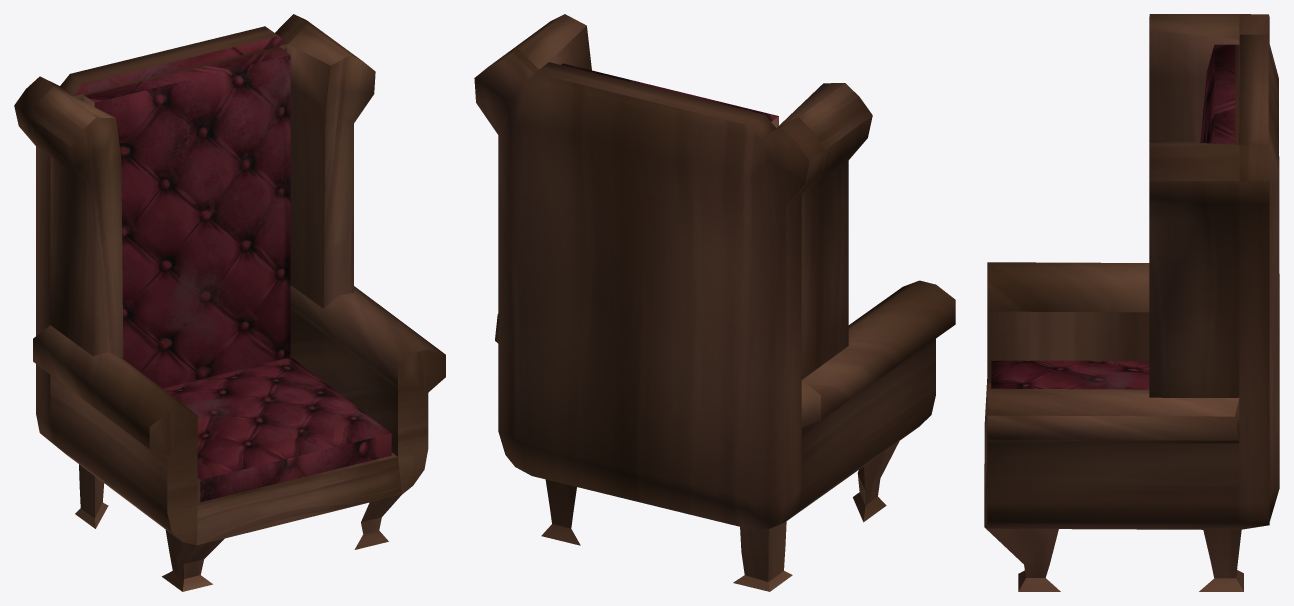
Rendered from CozyChair.fbx.
3 renders of one model, left to right at view 1: azimuth 30°, elevation 25°; view 2: azimuth 150°, elevation 25°; view 3: azimuth 270°, elevation 25°, orthographic. The views are drawn at different scales.
Parts seen in each view (by area): view 1: CozyChair; view 2: CozyChair; view 3: CozyChair.
Part boxes in pixels (x1=…): CozyChair: x1=14, y1=14, x2=445, y2=591; CozyChair: x1=474, y1=14, x2=955, y2=591; CozyChair: x1=984, y1=14, x2=1279, y2=591.
Size of the model in its own units: 133 by 181 by 106.
